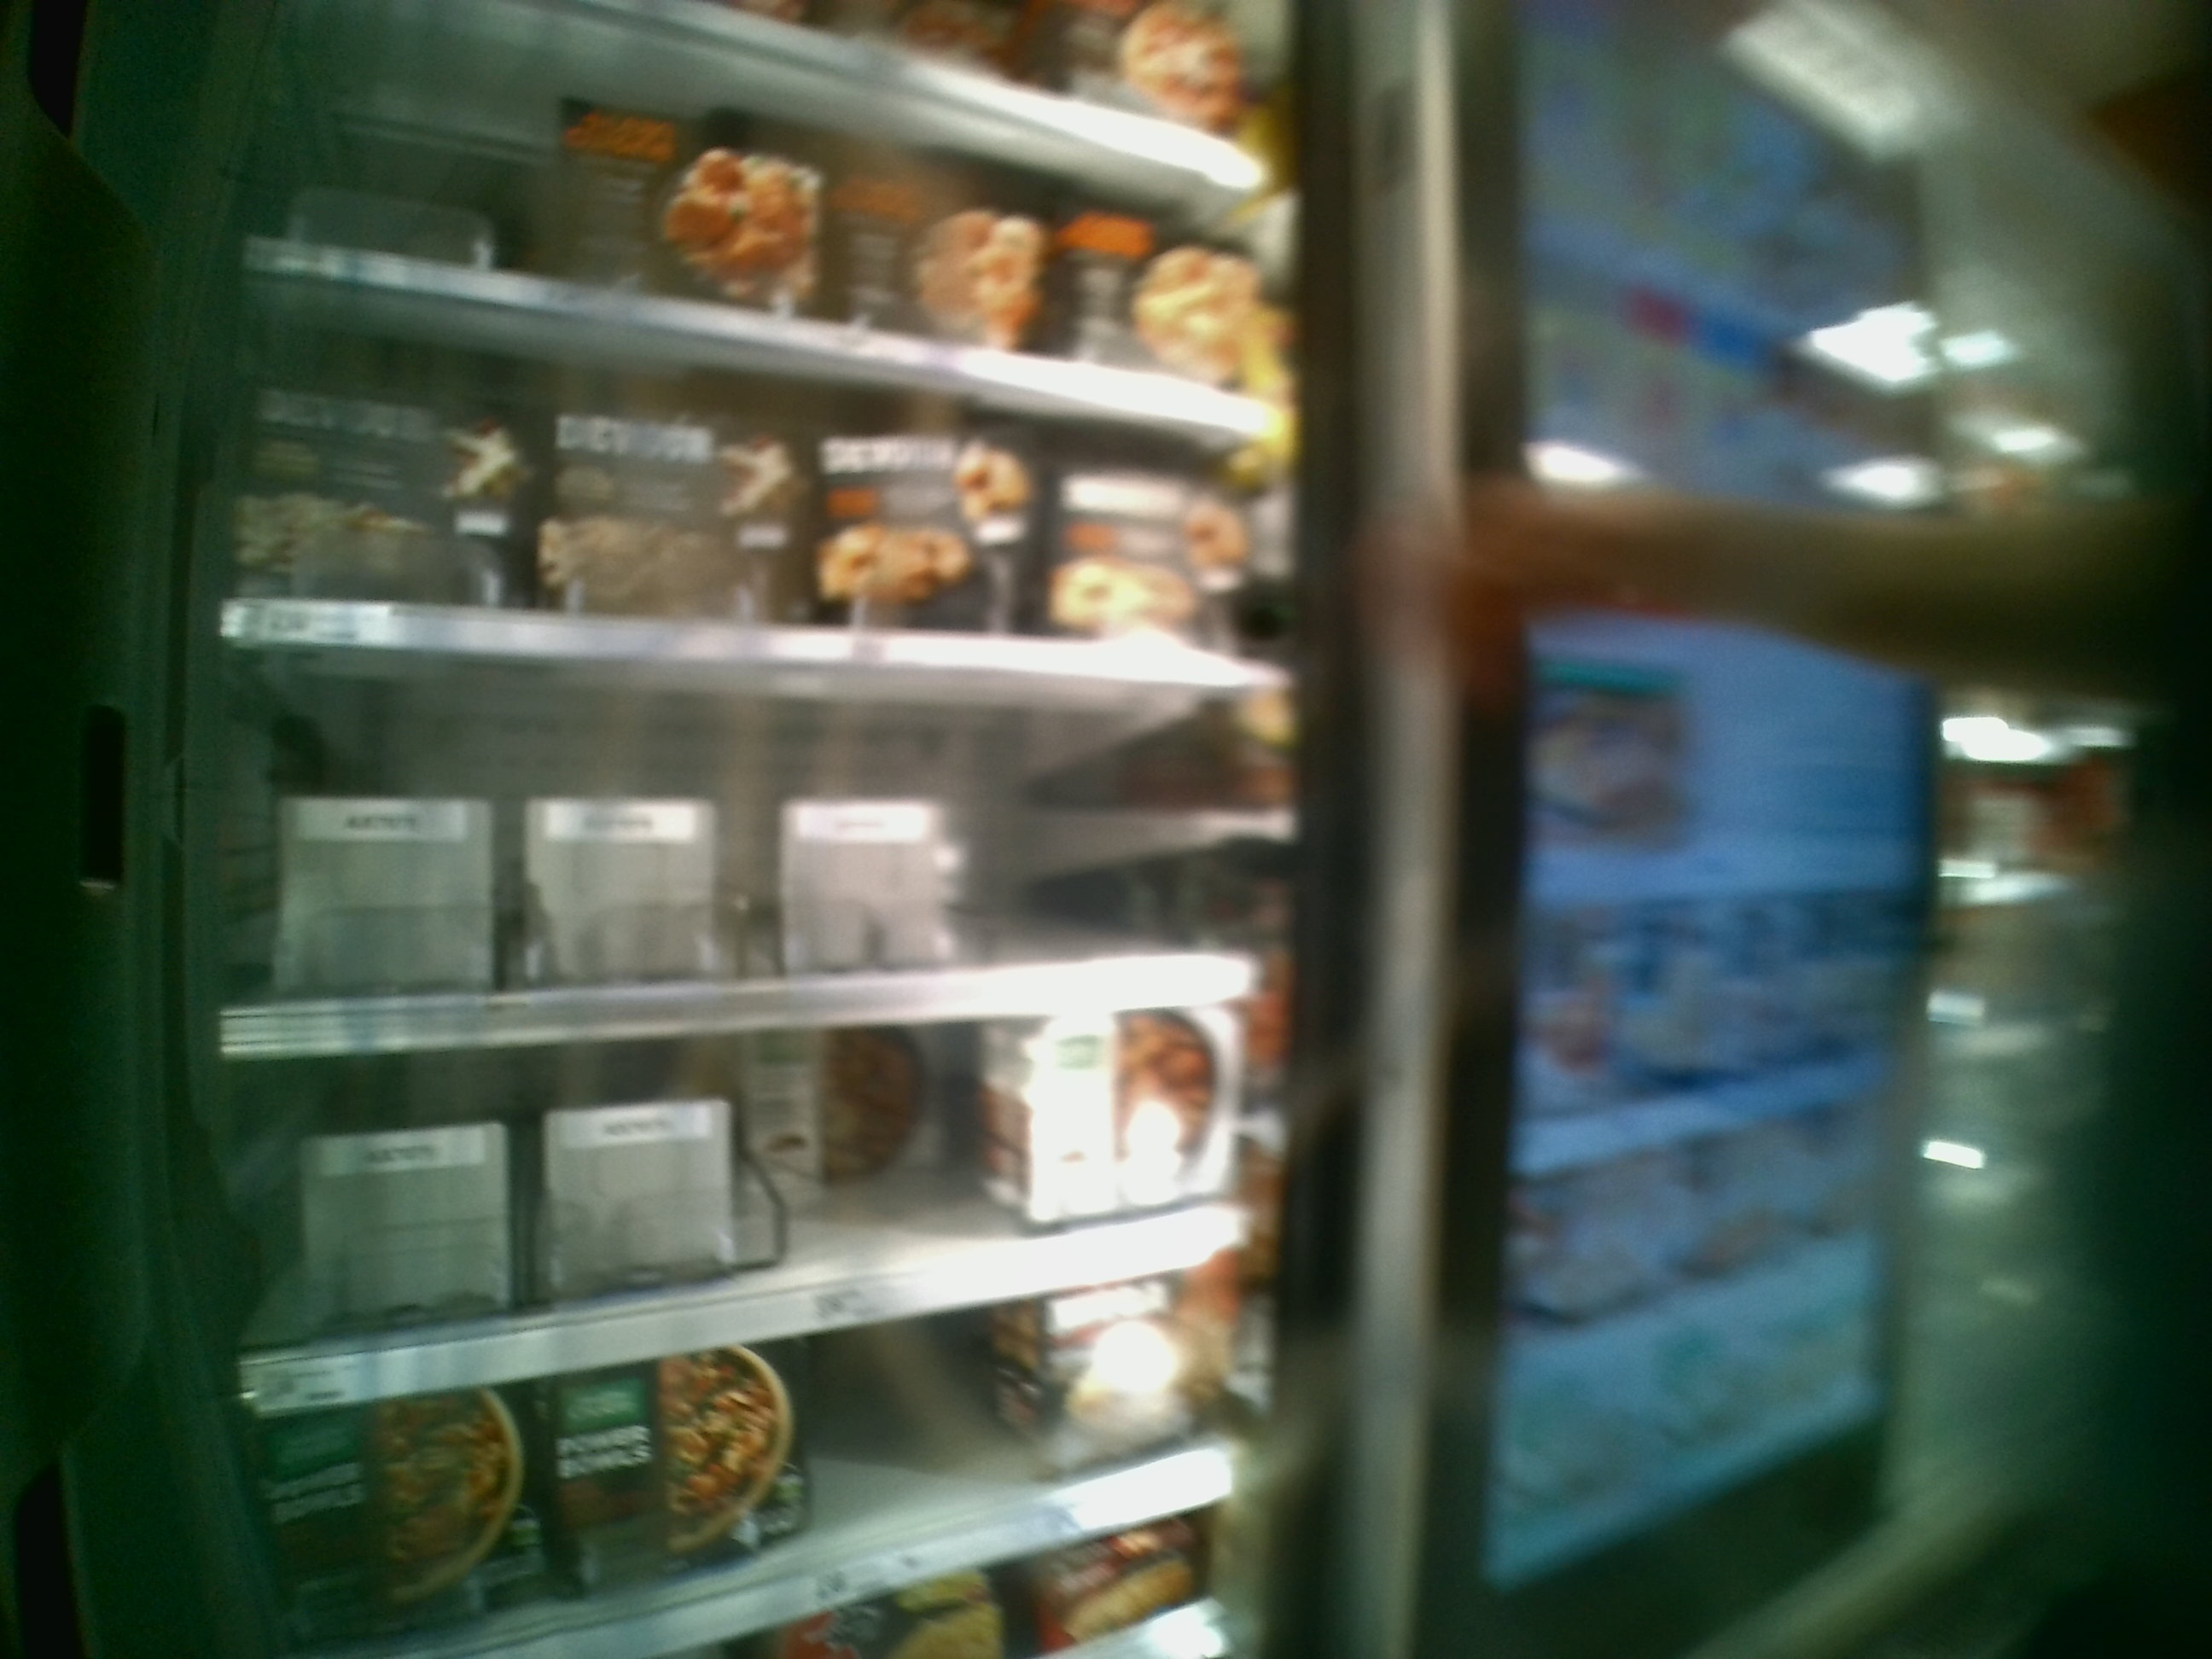shelf: (206, 631, 1285, 1054)
